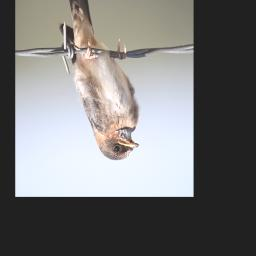Swallow: (58, 0, 141, 163)
